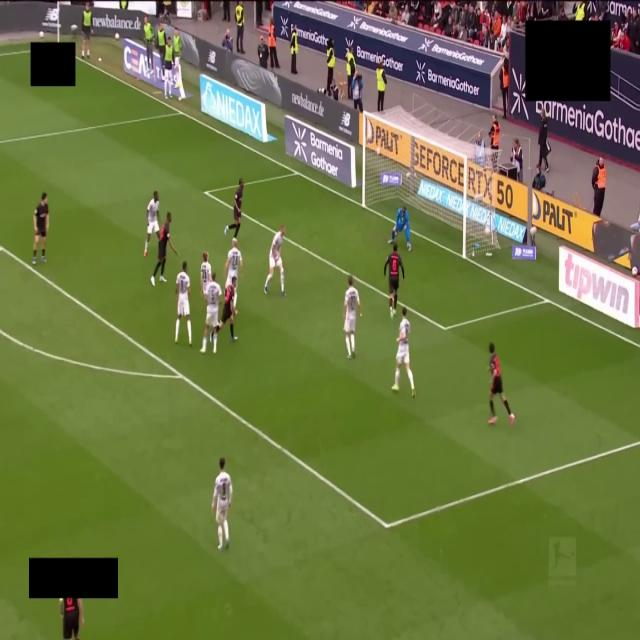player: (489, 343, 514, 426), (392, 308, 415, 397), (151, 213, 178, 286), (212, 458, 232, 551), (201, 273, 222, 353), (264, 224, 285, 295), (384, 244, 404, 318), (344, 276, 361, 359), (175, 261, 191, 346), (218, 277, 237, 341), (32, 192, 48, 264), (225, 178, 243, 238), (388, 207, 411, 251), (144, 192, 159, 256), (60, 599, 83, 639), (225, 239, 243, 286), (200, 252, 211, 295)
